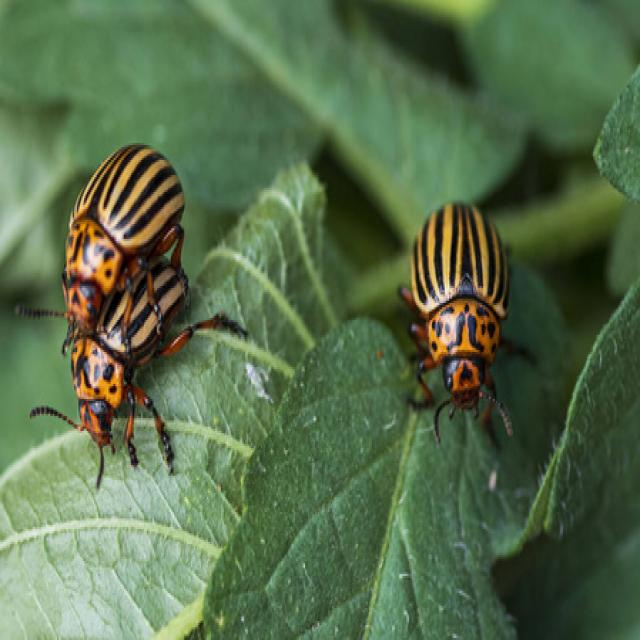ShuCaiHuaBanChong-Grown-: (404, 179, 535, 419), (68, 262, 208, 450), (60, 123, 188, 308)
